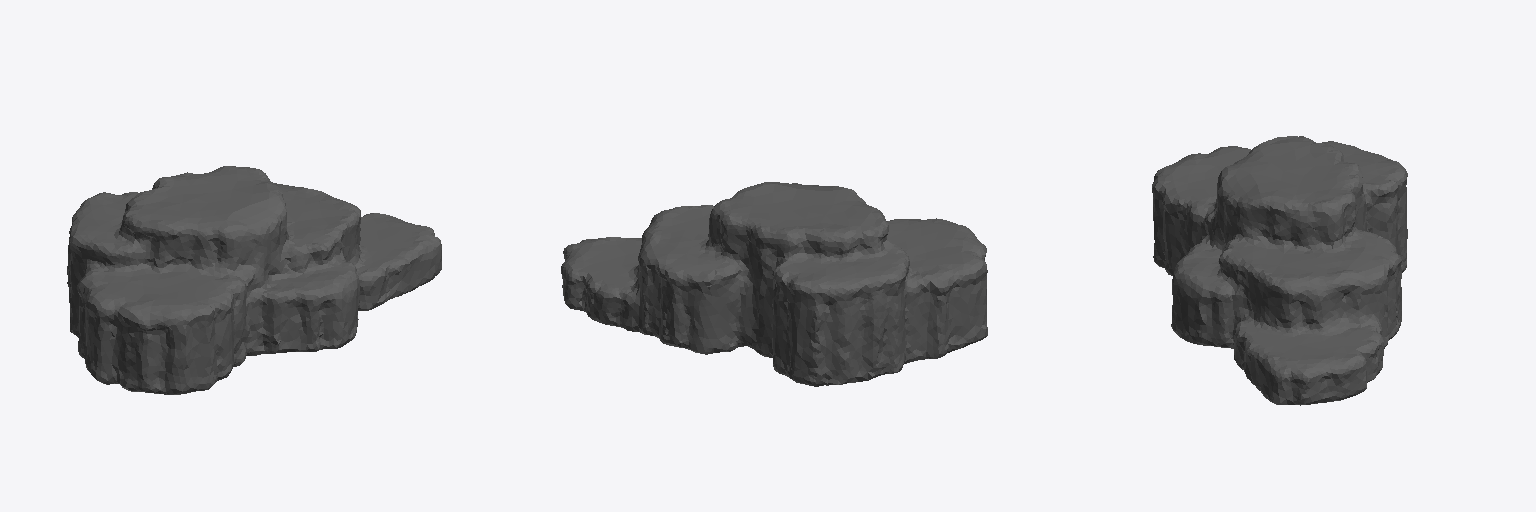
The model's file is CavePlatform4.obj.
3 renders of one model, left to right at view 1: azimuth 30°, elevation 25°; view 2: azimuth 150°, elevation 25°; view 3: azimuth 270°, elevation 25°, orthographic.
Visible parts, largest first — view 1: CavePlatform_4; view 2: CavePlatform_4; view 3: CavePlatform_4.
Boxes of the visible parts, <box> form: CavePlatform_4: <box>67,166,441,394</box>; CavePlatform_4: <box>561,182,987,386</box>; CavePlatform_4: <box>1152,136,1407,405</box>.
Size of the model in its own units: 184 by 59.88 by 107.